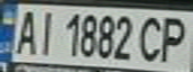1: (57, 9, 81, 57)
2: (112, 11, 139, 61)
8: (78, 10, 100, 58), (97, 11, 118, 60)
A: (9, 7, 42, 56)
C: (136, 12, 169, 63)
I: (33, 7, 60, 56)
P: (154, 12, 193, 64)
